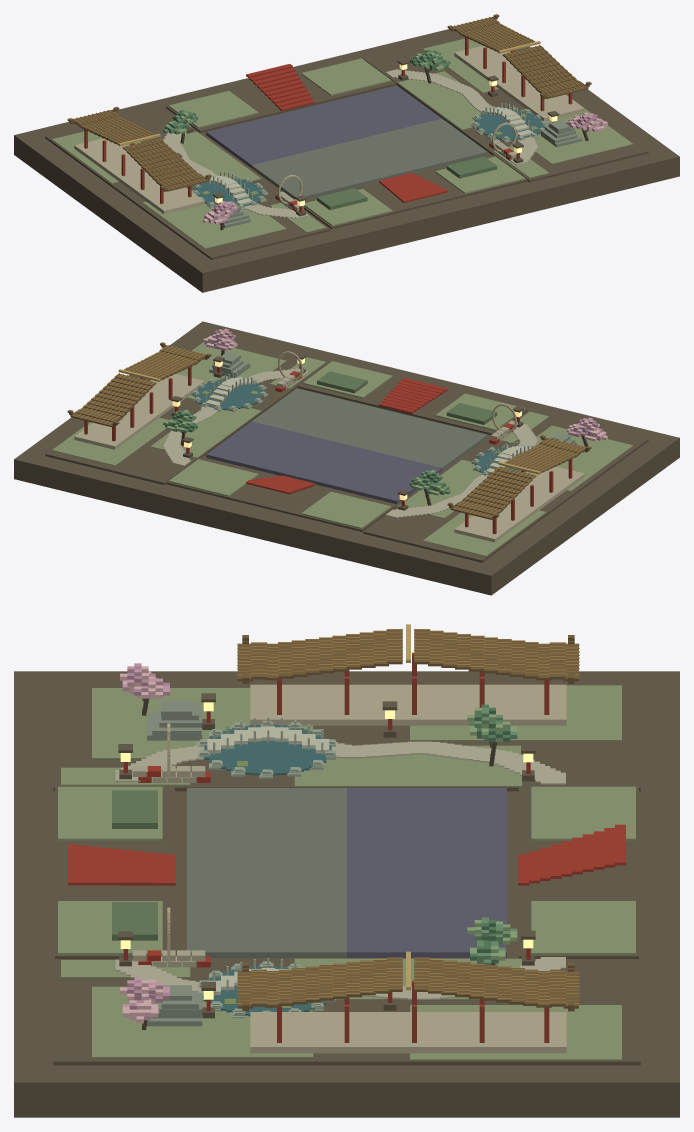
File: preview-dynasty.glb
3 renders of one model, top to bottom at view 1: azimuth 30°, elevation 25°; view 2: azimuth 150°, elevation 25°; view 3: azimuth 270°, elevation 25°, orthographic. The views are drawn at different scales.
Parts seen in each view (by area): view 1: Miniature_Plinth, Miniature_Original_Board, Miniature_Approach_Flanking_Terraces, Miniature_Landscape_Terrain_Fields, Miniature_East_Landscape_Terrain_Fields, Miniature_East_Landscape_Terrain_Base, Miniature_Approach_Terrain, Miniature_Landscape_Terrain_Base, Miniature_Landscape_Palace_Gallery_Roof, Miniature_East_Landscape_Palace_Gallery_Roof, Miniature_Approach_Entry_Stair, Miniature_Landscape_Gallery_Stone_Terrace (+18 smaller); view 2: Miniature_Plinth, Miniature_Original_Board, Miniature_Approach_Flanking_Terraces, Miniature_East_Landscape_Terrain_Fields, Miniature_Landscape_Terrain_Fields, Miniature_Approach_Terrain, Miniature_Landscape_Terrain_Base, Miniature_East_Landscape_Terrain_Base, Miniature_East_Landscape_Palace_Gallery_Roof, Miniature_Landscape_Palace_Gallery_Roof, Miniature_Landscape_Gallery_Stone_Terrace, Miniature_East_Landscape_Gallery_Stone_Terrace (+16 smaller); view 3: Miniature_Plinth, Miniature_Original_Board, Miniature_Landscape_Terrain_Fields, Miniature_Approach_Flanking_Terraces, Miniature_East_Landscape_Terrain_Fields, Miniature_East_Landscape_Terrain_Base, Miniature_Landscape_Terrain_Base, Miniature_East_Landscape_Gallery_Stone_Terrace, Miniature_Landscape_Gallery_Stone_Terrace, Miniature_Approach_Terrain, Miniature_Landscape_Palace_Gallery_Roof, Miniature_East_Landscape_Palace_Gallery_Roof (+21 smaller).
Boxes of the visible parts, <box> form: Miniature_Plinth: <box>14,29,679,292</box>; Miniature_Original_Board: <box>206,85,487,201</box>; Miniature_Approach_Flanking_Terraces: <box>168,58,525,226</box>; Miniature_Landscape_Terrain_Fields: <box>52,131,326,248</box>; Miniature_East_Landscape_Terrain_Fields: <box>397,38,632,177</box>; Miniature_East_Landscape_Terrain_Base: <box>363,35,648,182</box>; Miniature_Approach_Terrain: <box>166,59,527,229</box>; Miniature_Landscape_Terrain_Base: <box>45,107,330,259</box>; Miniature_Landscape_Palace_Gallery_Roof: <box>74,110,208,191</box>; Miniature_East_Landscape_Palace_Gallery_Roof: <box>453,17,588,98</box>; Miniature_Approach_Entry_Stair: <box>246,64,447,202</box>; Miniature_Landscape_Gallery_Stone_Terrace: <box>74,138,204,214</box>; Miniature_Plinth: <box>14,321,679,595</box>; Miniature_Original_Board: <box>206,388,487,504</box>; Miniature_Approach_Flanking_Terraces: <box>168,361,525,528</box>; Miniature_East_Landscape_Terrain_Fields: <box>52,342,325,465</box>; Miniature_Landscape_Terrain_Fields: <box>398,411,633,556</box>; Miniature_Approach_Terrain: <box>166,361,527,531</box>; Miniature_Landscape_Terrain_Base: <box>363,410,648,562</box>; Miniature_East_Landscape_Terrain_Base: <box>45,332,330,484</box>; Miniature_East_Landscape_Palace_Gallery_Roof: <box>71,345,205,426</box>; Miniature_Landscape_Palace_Gallery_Roof: <box>451,438,584,519</box>; Miniature_Landscape_Gallery_Stone_Terrace: <box>454,466,584,542</box>; Miniature_East_Landscape_Gallery_Stone_Terrace: <box>74,374,204,449</box>; Miniature_Plinth: <box>14,671,679,1117</box>; Miniature_Original_Board: <box>187,788,506,957</box>; Miniature_Landscape_Terrain_Fields: <box>61,685,621,786</box>; Miniature_Approach_Flanking_Terraces: <box>58,786,635,954</box>; Miniature_East_Landscape_Terrain_Fields: <box>61,958,621,1060</box>; Miniature_East_Landscape_Terrain_Base: <box>53,959,640,1065</box>; Miniature_Landscape_Terrain_Base: <box>53,685,640,791</box>; Miniature_East_Landscape_Gallery_Stone_Terrace: <box>250,1012,566,1053</box>; Miniature_Landscape_Gallery_Stone_Terrace: <box>250,684,566,725</box>; Miniature_Approach_Terrain: <box>55,787,638,958</box>; Miniature_Landscape_Palace_Gallery_Roof: <box>237,630,578,681</box>; Miniature_East_Landscape_Palace_Gallery_Roof: <box>237,959,578,1008</box>.
Bounding box in the file's own units: 7.6 × 0.9152 × 5.2.
